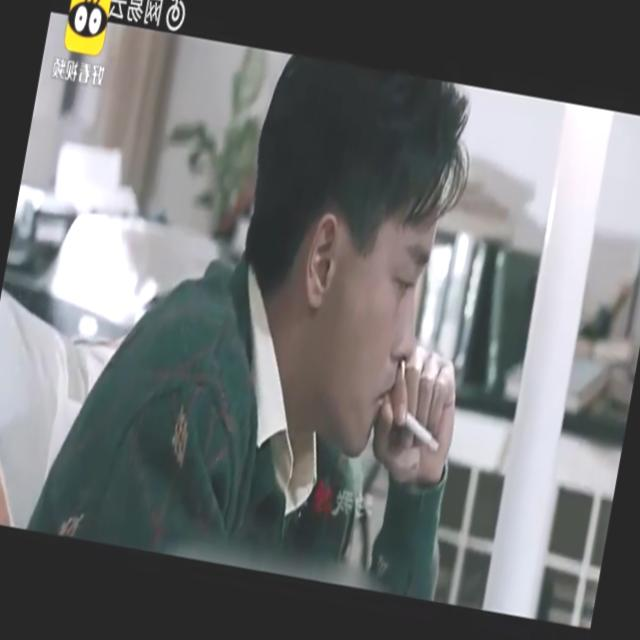cigarette: (396, 412, 446, 461)
